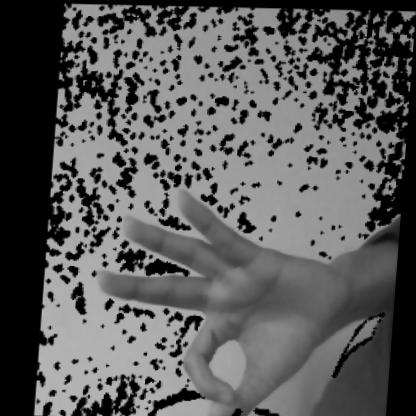ok: (84, 173, 377, 415)
